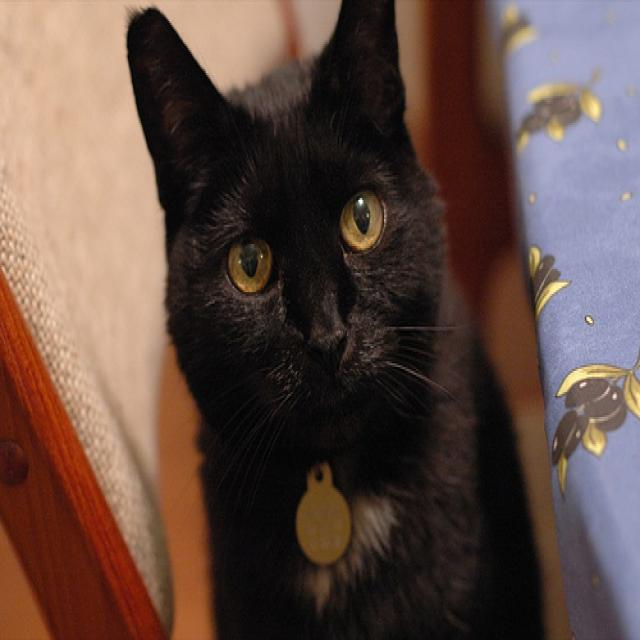cat: (124, 1, 549, 639)
